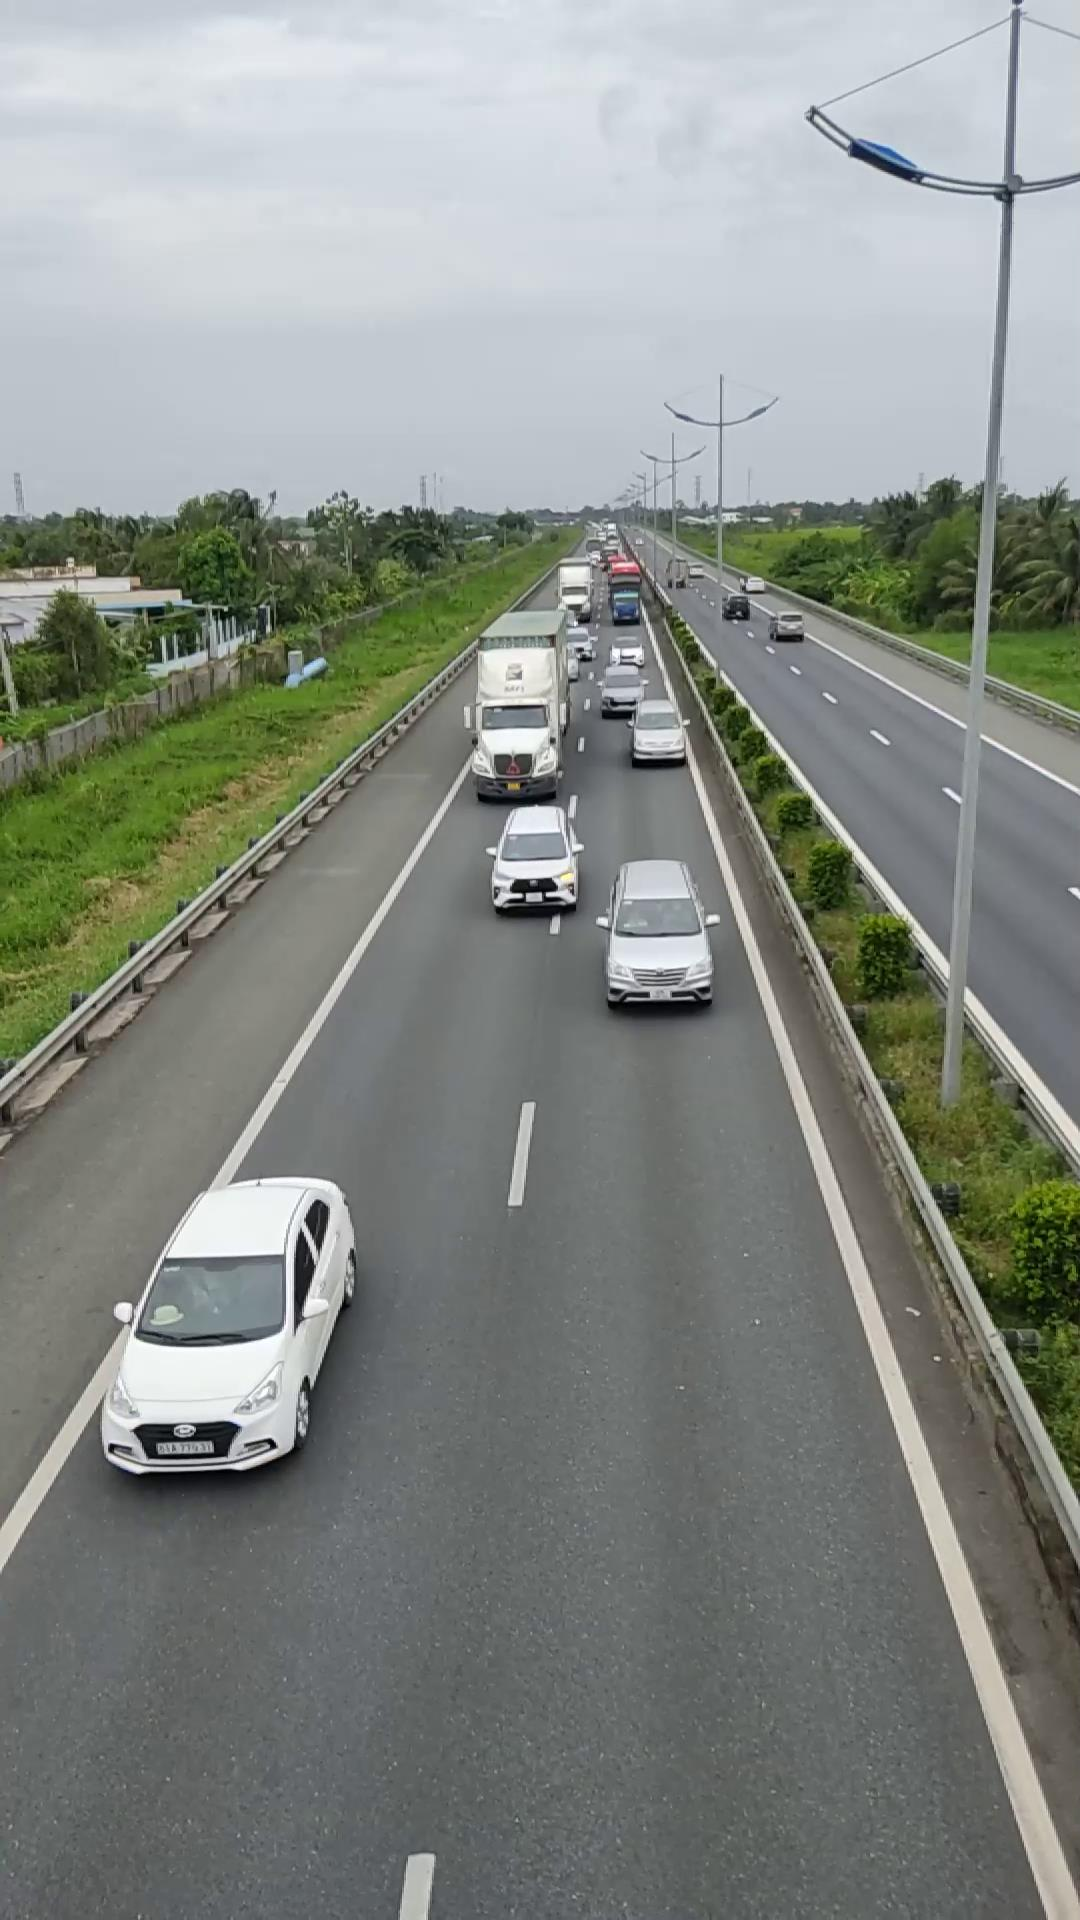car: (94, 1172, 359, 1477), (600, 858, 717, 1009), (487, 803, 584, 914)
container: (466, 606, 574, 801)
